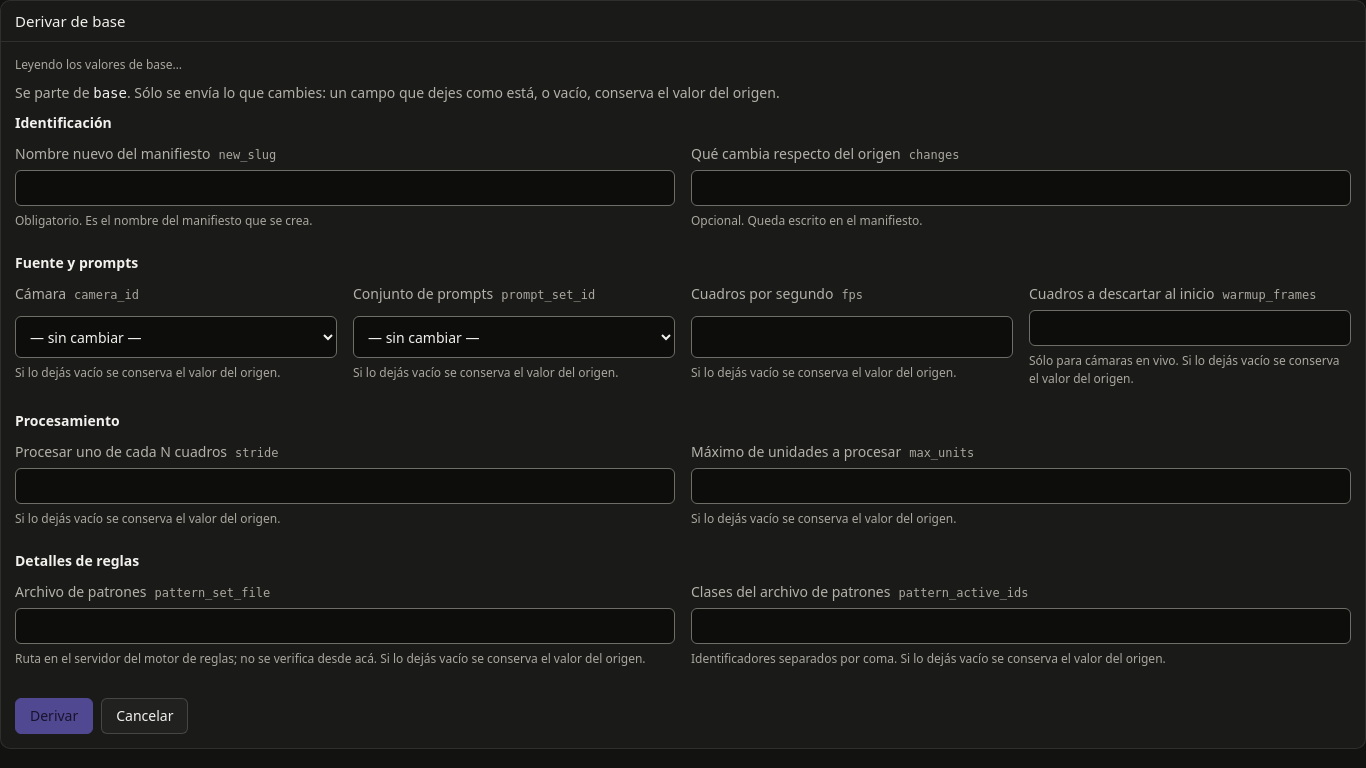
Test: DeriveExperimentForm › muestra el detail real del backend (409), no el "API 409" genérico de ApiError
Type "nuevo" into the field labelled "Nombre nuevo del manifiesto new_slug" at (345, 188), box [15,170,675,206]
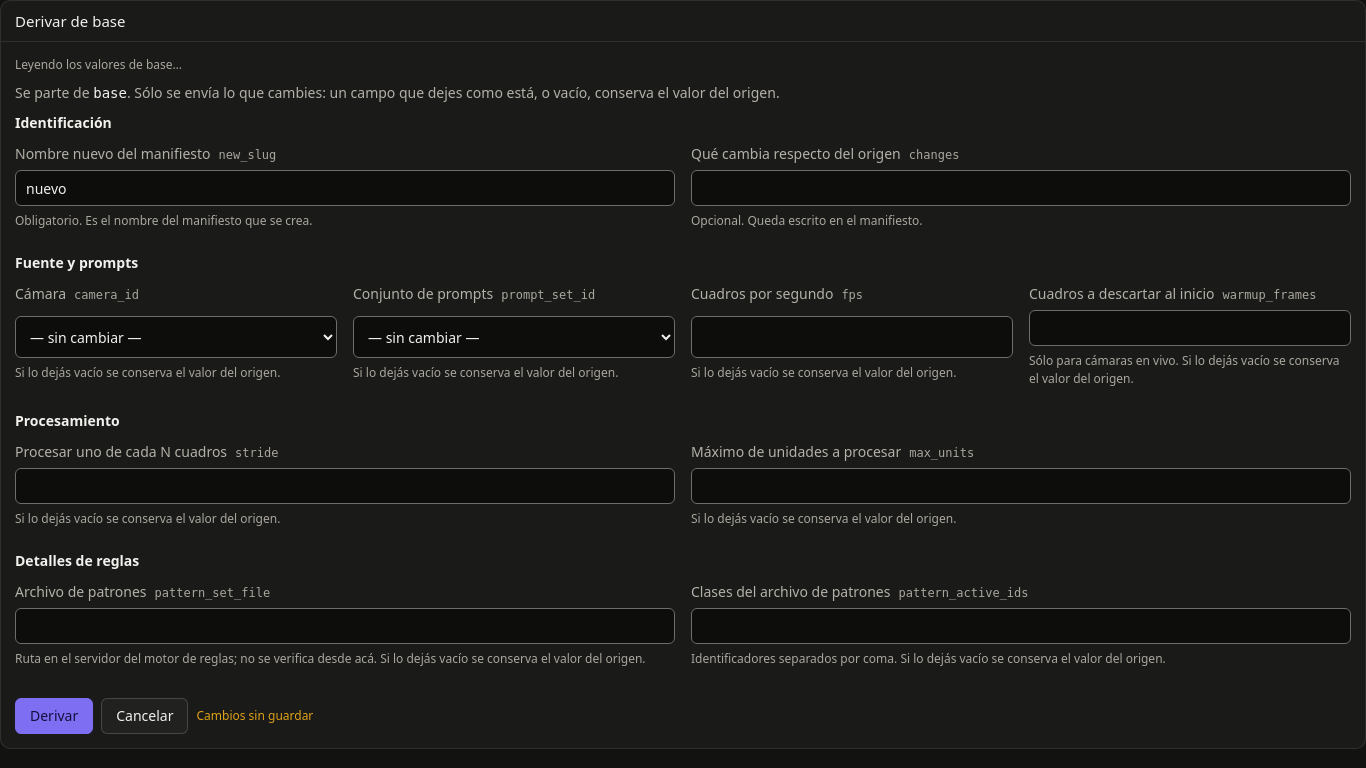
Click the button "Derivar" at (54, 716), box [15,698,93,734]
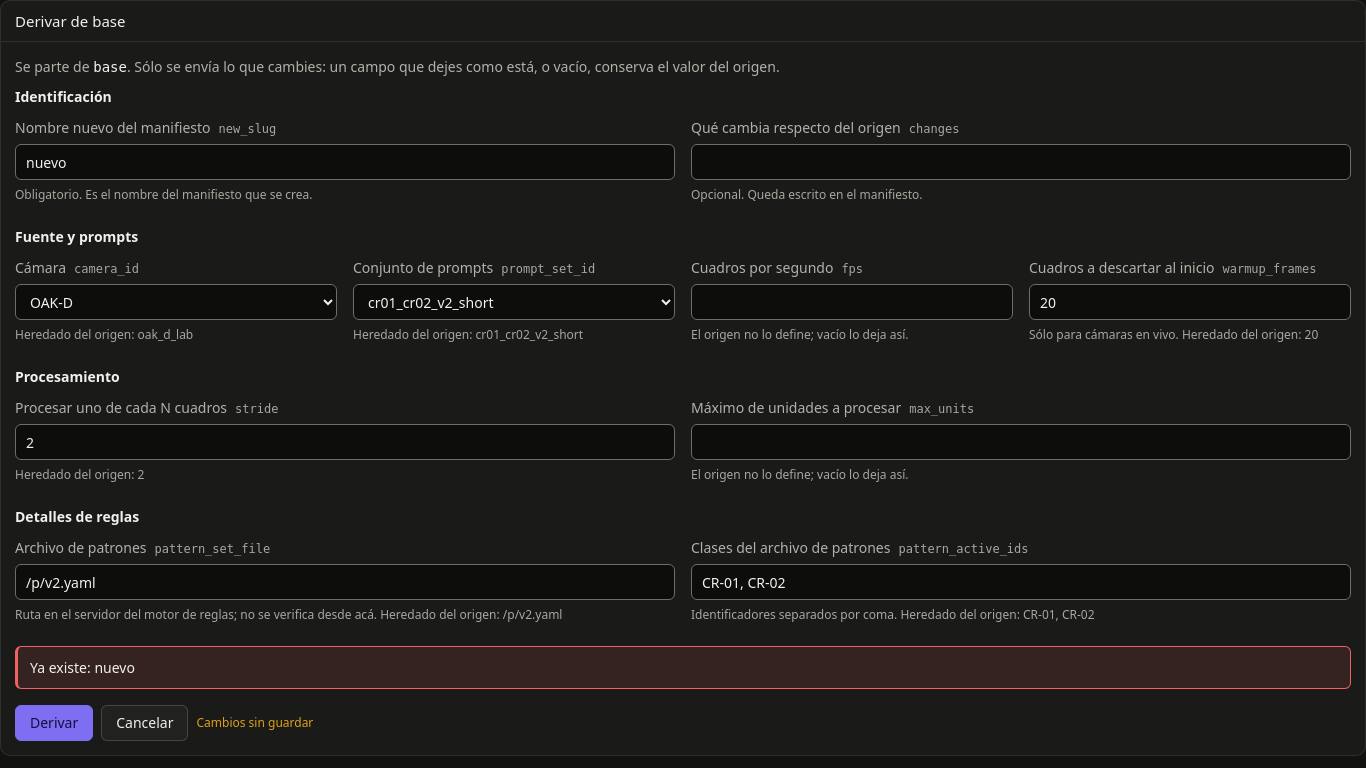
Result: the text "Ya existe: nuevo" is shown at [30,658,135,677]
